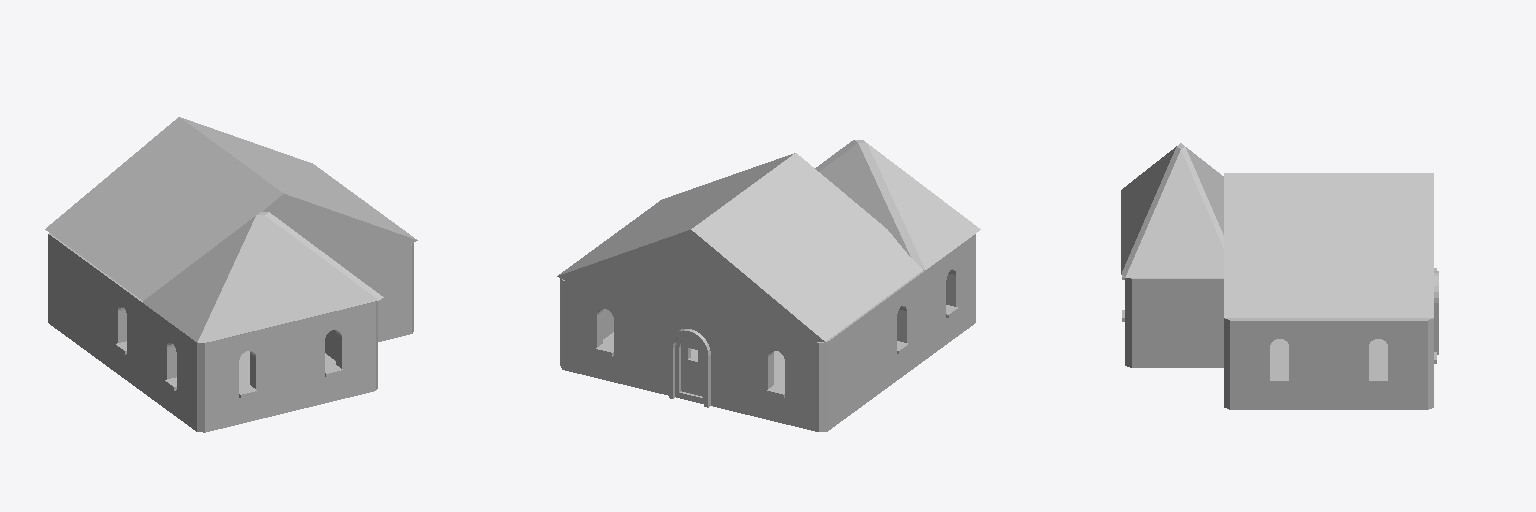
File: House4.obj
The picture shows the model from 3 angles: view 1: azimuth 30°, elevation 25°; view 2: azimuth 150°, elevation 25°; view 3: azimuth 270°, elevation 25°; orthographic projection.
Size of the model in its own units: 3.19 by 1.99 by 3.22.